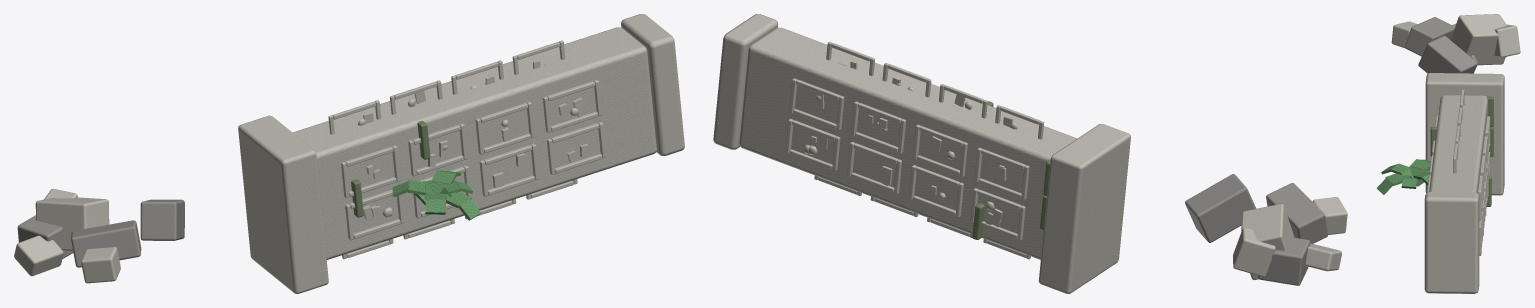
The model's file is jungle-temple-and-stone-city-carved-stela-toppled-abdba878__36123.glb.
The picture shows the model from 3 angles, left to right: view 1: azimuth 30°, elevation 25°; view 2: azimuth 150°, elevation 25°; view 3: azimuth 270°, elevation 25°; orthographic projection. The views are drawn at different scales.
Parts seen in each view (by area): view 1: carved-stela-toppled; view 2: carved-stela-toppled; view 3: carved-stela-toppled.
Part boxes in pixels (x1,y1,x2,y2): carved-stela-toppled: [14, 14, 684, 293]; carved-stela-toppled: [713, 14, 1347, 293]; carved-stela-toppled: [1376, 14, 1520, 293].
Size of the model in its own units: 5.58 by 1.44 by 1.38.
Materials: 4 (4 with a texture image).
